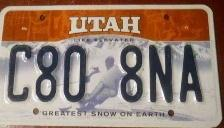0: (61, 43, 87, 104)
8: (118, 43, 145, 104), (33, 43, 60, 103)
A: (177, 43, 205, 105)
C: (5, 42, 34, 104)
N: (147, 42, 176, 105)
